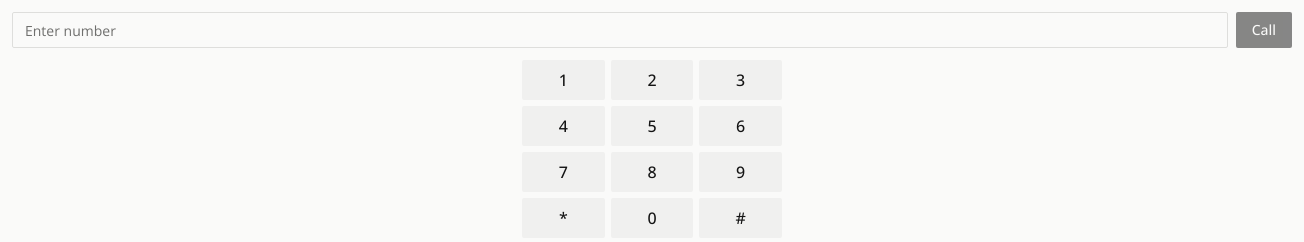
Test: DialPad — idle dialer › strips formatting on typing/paste (keeps digits + * #)
Type "+1 (727) 555-1234" into the field named "Phone number" at (620, 30), box [12,12,1228,48]
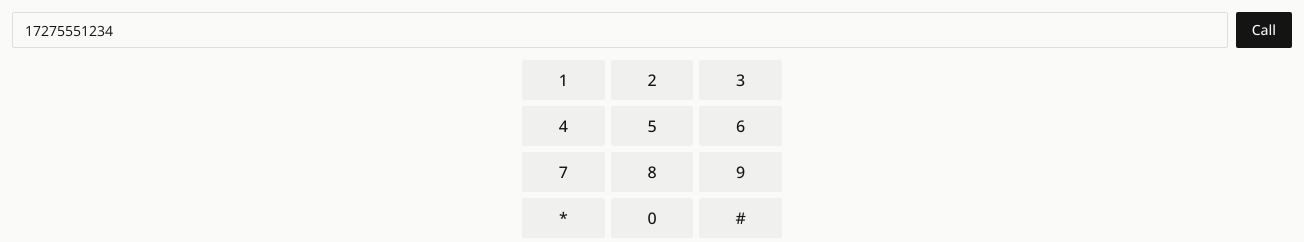
expect the field named "Phone number" holds "17275551234": met, box [12,12,1228,48]
